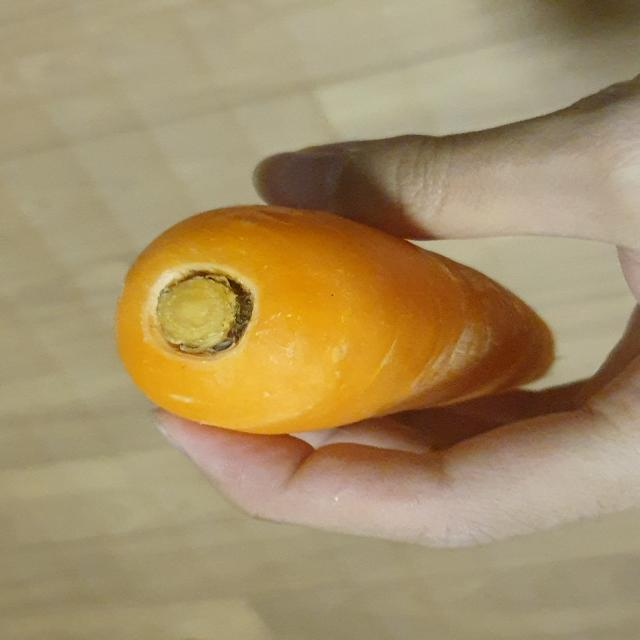carrot: (100, 192, 566, 433)
